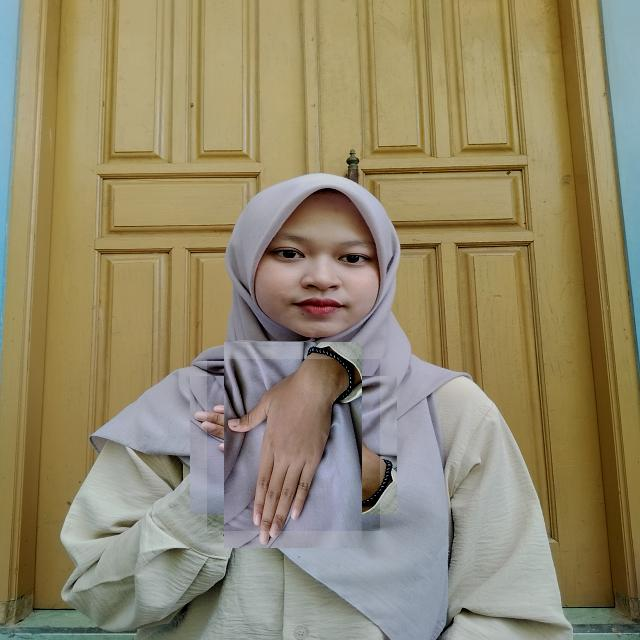tolong: (207, 359, 380, 531)
